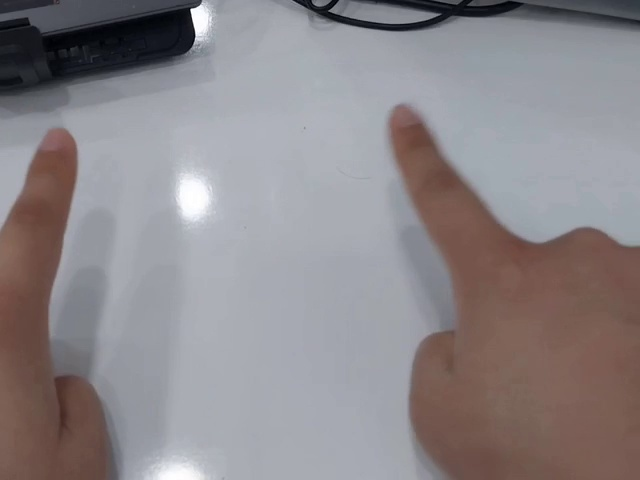fingers: (29, 127, 80, 184), (386, 102, 433, 152)
